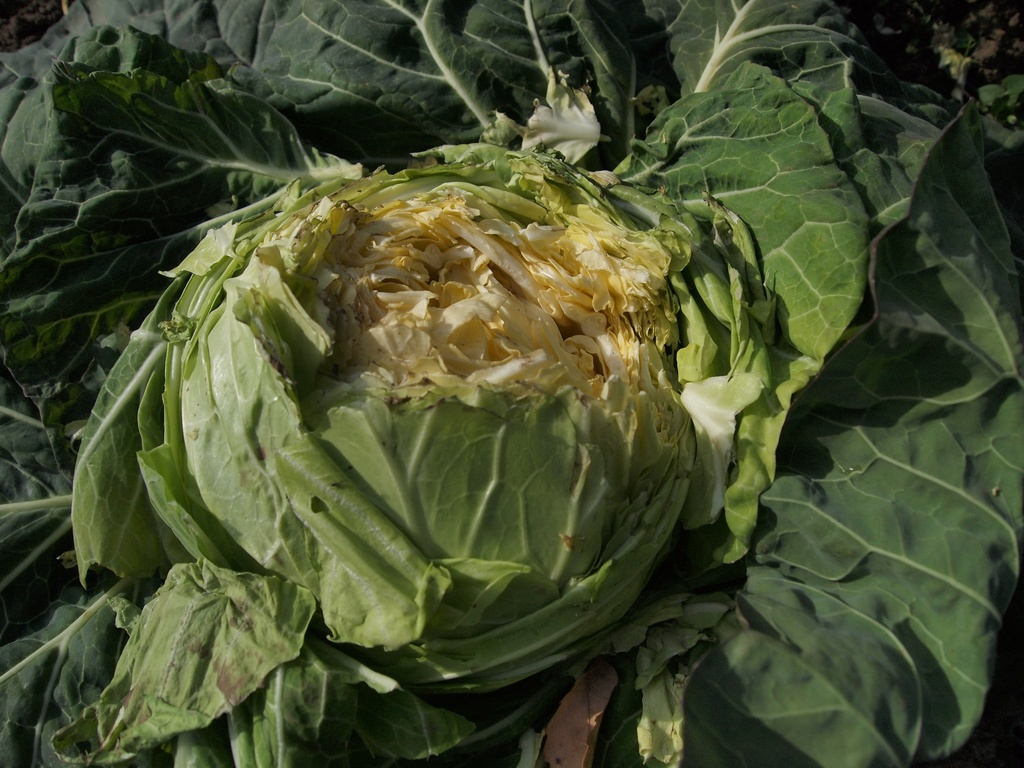Cabbage: (1, 0, 1024, 767)
